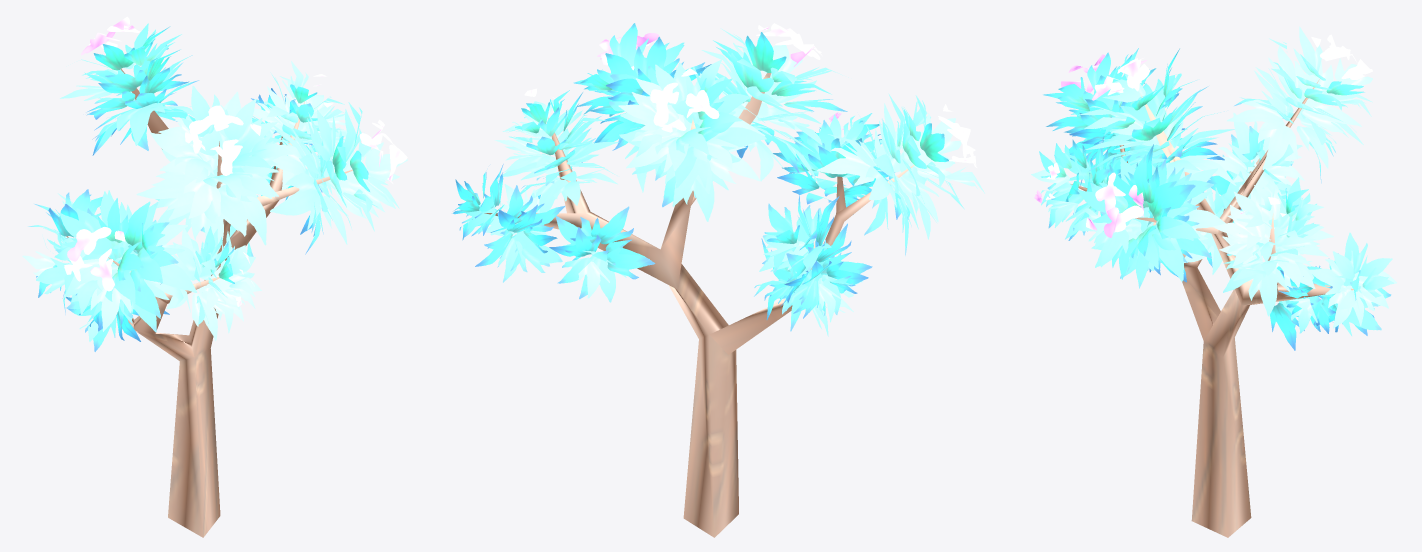
The model's file is Tree_04.fbx.
3 views of the same model, side by side, from view 1: azimuth 30°, elevation 25°; view 2: azimuth 150°, elevation 25°; view 3: azimuth 270°, elevation 25° (orthographic). The views are drawn at different scales.
Visible parts, largest first — view 1: TRS5; view 2: TRS5; view 3: TRS5.
Boxes of the visible parts, left/top/right/bottom form: TRS5: left=22, top=16, right=407, bottom=537; TRS5: left=452, top=23, right=984, bottom=537; TRS5: left=1031, top=26, right=1396, bottom=537.
Size of the model in its own units: 629 by 743 by 542.
